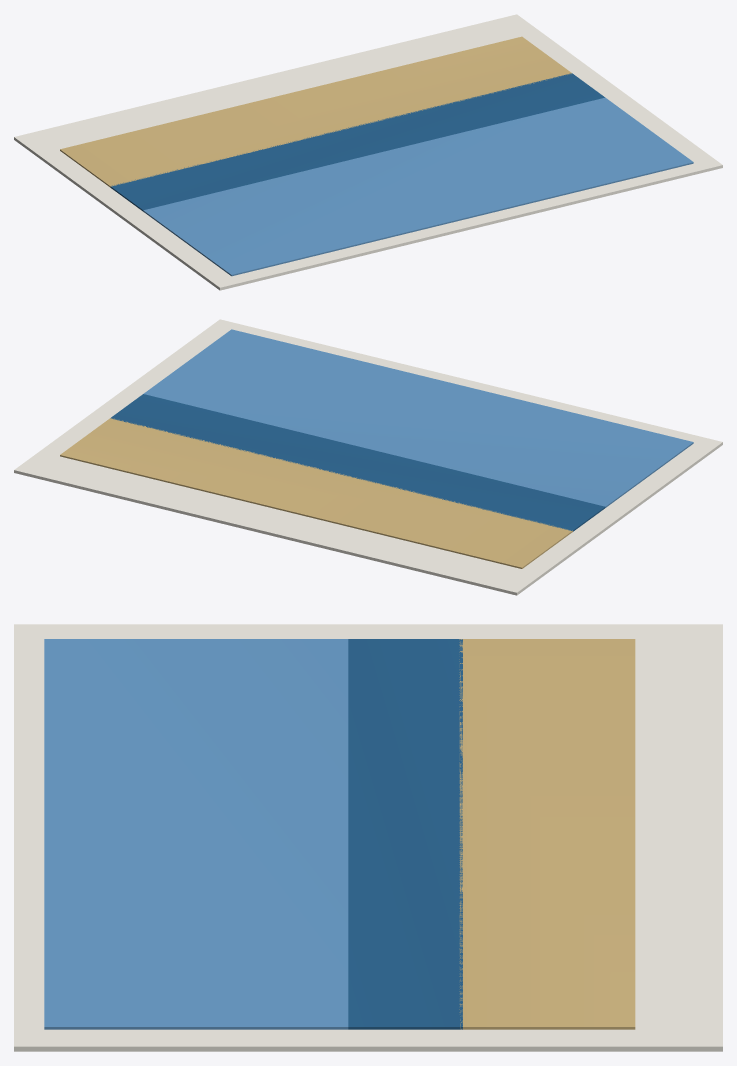
The model's file is postcard.glb.
The picture shows the model from 3 angles, top to bottom: view 1: azimuth 30°, elevation 25°; view 2: azimuth 150°, elevation 25°; view 3: azimuth 270°, elevation 25°; orthographic projection. The views are drawn at different scales.
Parts seen in each view (by area): view 1: postcard; view 2: postcard; view 3: postcard.
Part boxes in pixels (bbox=[...]): postcard: bbox=[14, 14, 722, 290]; postcard: bbox=[14, 319, 722, 595]; postcard: bbox=[14, 624, 722, 1051].
Bounding box in the file's own units: 0.148 × 0.0012 × 0.105.
